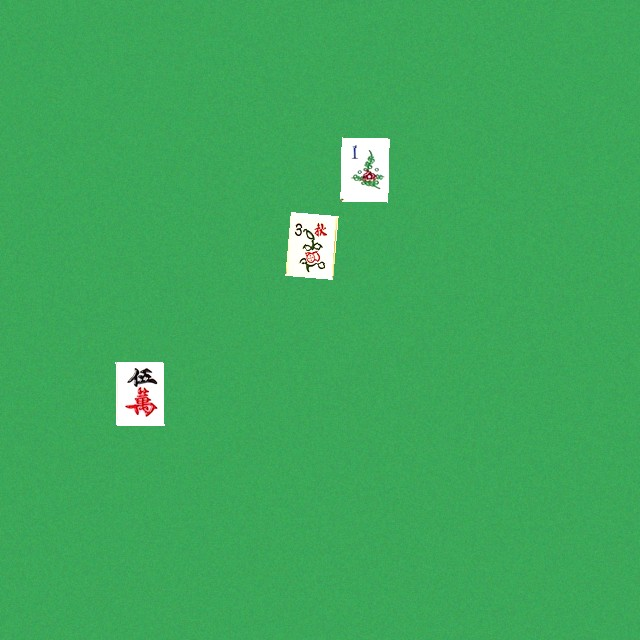tile: (285, 212, 333, 276), (115, 361, 163, 425), (340, 137, 388, 201)
